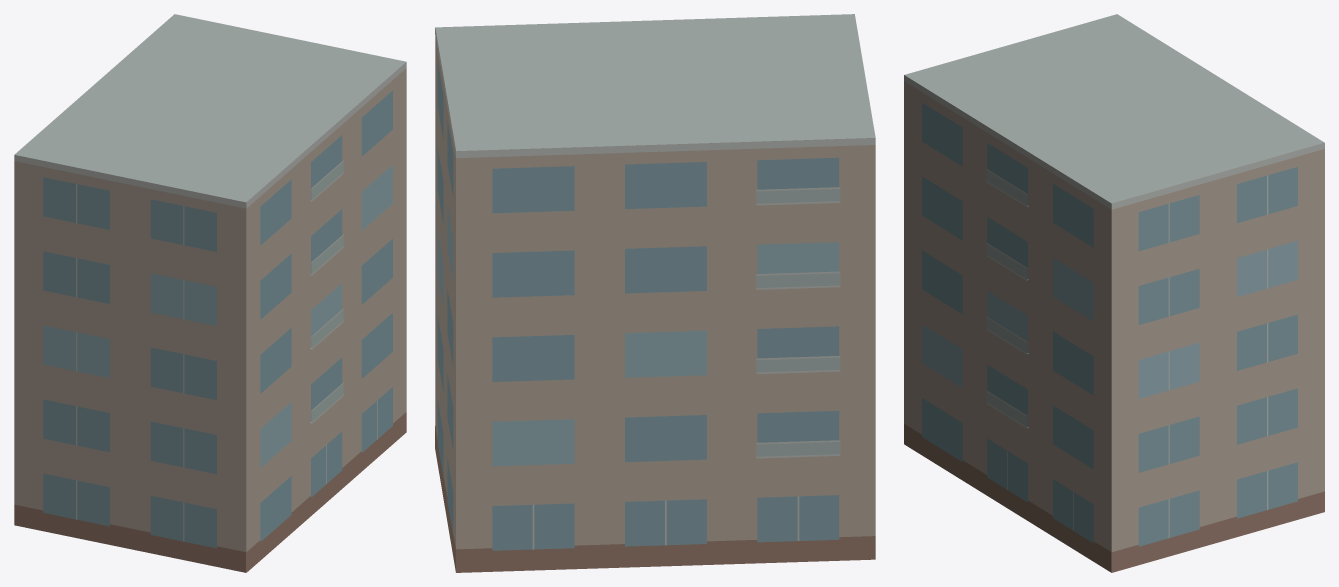
File: survey-upis-32981599.glb
3 renders of one model, left to right at view 1: azimuth 30°, elevation 25°; view 2: azimuth 150°, elevation 25°; view 3: azimuth 270°, elevation 25°, orthographic. The views are drawn at different scales.
Visible parts, largest first — view 1: survey-upis-32981599.tmp; view 2: survey-upis-32981599.tmp; view 3: survey-upis-32981599.tmp.
Boxes of the visible parts, bbox=[...] form: survey-upis-32981599.tmp: bbox=[14, 14, 406, 572]; survey-upis-32981599.tmp: bbox=[435, 14, 875, 572]; survey-upis-32981599.tmp: bbox=[904, 14, 1324, 572].
Bounding box in the file's own units: 16.08 × 14.6 × 15.08.
